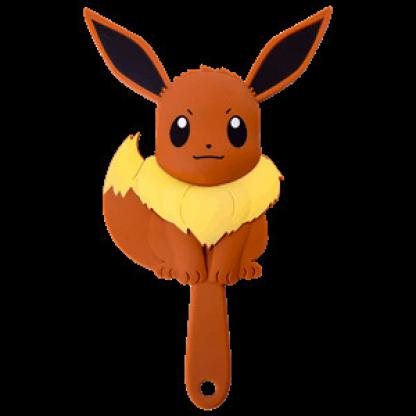Eevee: (86, 1, 346, 416)
